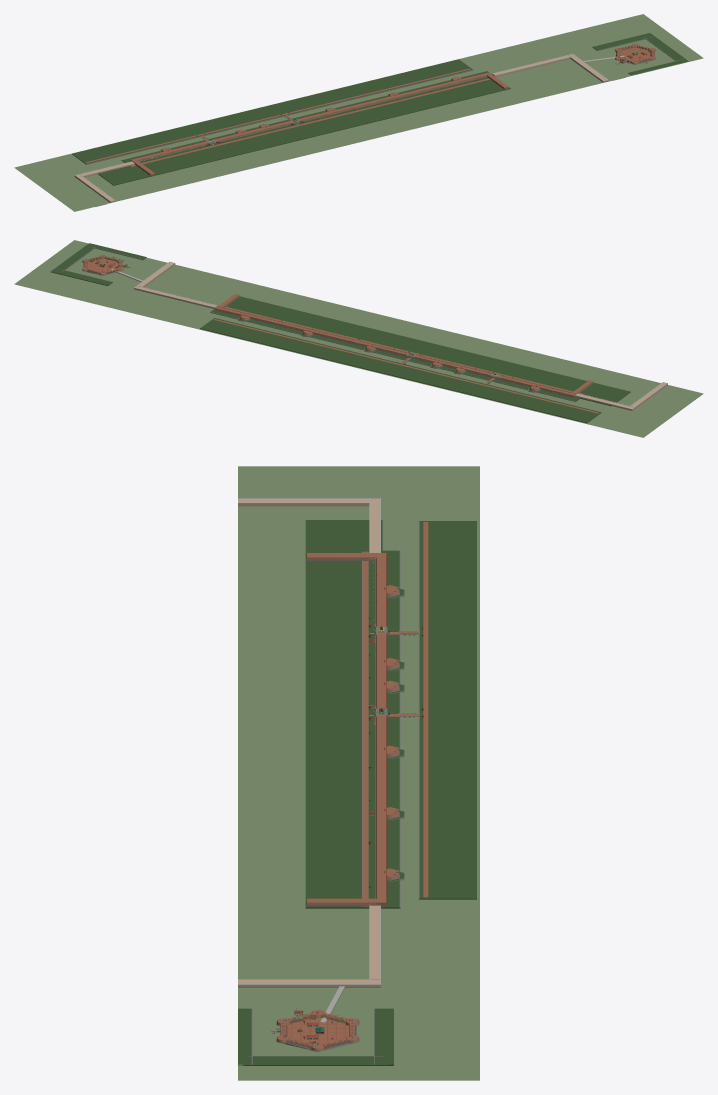
File: T27_thanh_vauban_bac.glb
The picture shows the model from 3 angles, top to bottom: view 1: azimuth 30°, elevation 25°; view 2: azimuth 150°, elevation 25°; view 3: azimuth 270°, elevation 25°; orthographic projection. The views are drawn at different scales.
Visible parts, largest first — view 1: T27_V2_Satellite_Seamless_Base, T27_Static_Root_v01; view 2: T27_V2_Satellite_Seamless_Base, T27_Static_Root_v01; view 3: T27_V2_Satellite_Seamless_Base, T27_Static_Root_v01.
Boxes of the visible parts, <box> form: T27_V2_Satellite_Seamless_Base: <box>14,14,703,211</box>; T27_Static_Root_v01: <box>72,33,688,185</box>; T27_V2_Satellite_Seamless_Base: <box>14,240,703,437</box>; T27_Static_Root_v01: <box>51,243,630,423</box>; T27_V2_Satellite_Seamless_Base: <box>238,466,479,1080</box>; T27_Static_Root_v01: <box>238,520,476,1065</box>.
Size of the model in its own units: 2700 by 16.24 by 450.
Materials: 20 (3 with a texture image).
